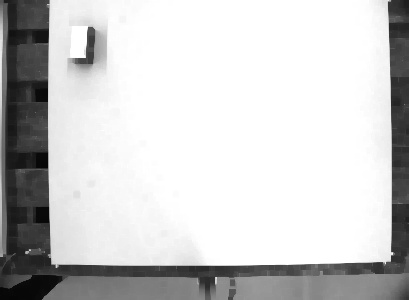b3: (65, 22, 97, 66)
